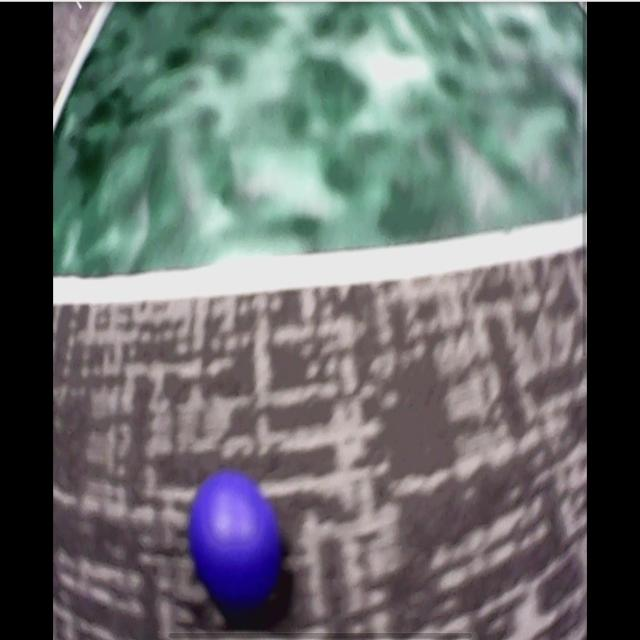ball: (191, 472, 278, 603)
